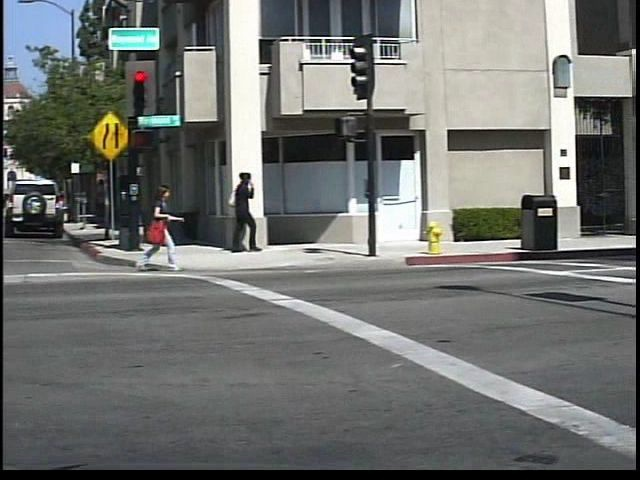person: (144, 181, 195, 274), (229, 169, 272, 255)
